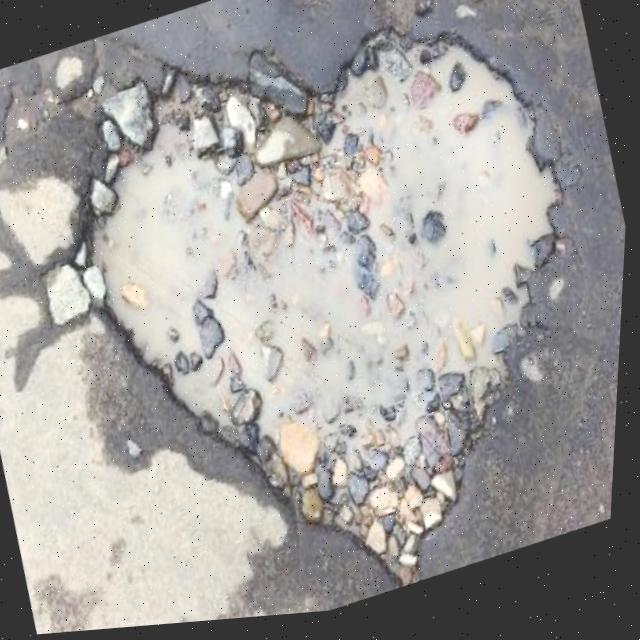Pothole: (17, 0, 640, 637)
